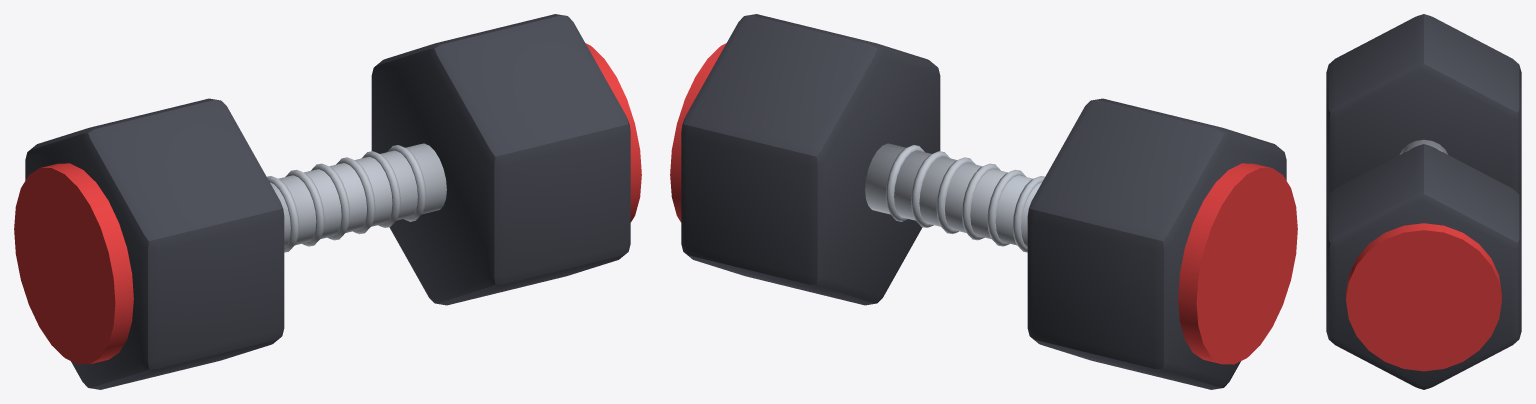
Rendered from Dumbbell.fbx.
3 views of the same model, side by side, from view 1: azimuth 30°, elevation 25°; view 2: azimuth 150°, elevation 25°; view 3: azimuth 270°, elevation 25° (orthographic). The views are drawn at different scales.
Visible parts, largest first — view 1: Dumbbell_Iron, Dumbbell_Body, Dumbbell_Steel; view 2: Dumbbell_Iron, Dumbbell_Body, Dumbbell_Steel; view 3: Dumbbell_Iron, Dumbbell_Body, Dumbbell_Steel.
Boxes of the visible parts, box(x1,y1,x2,y2) form: Dumbbell_Iron: box(25, 14, 630, 389); Dumbbell_Body: box(14, 43, 641, 364); Dumbbell_Steel: box(267, 143, 446, 252); Dumbbell_Iron: box(681, 14, 1286, 389); Dumbbell_Body: box(670, 43, 1297, 364); Dumbbell_Steel: box(865, 143, 1044, 252); Dumbbell_Iron: box(1326, 14, 1521, 389); Dumbbell_Body: box(1346, 223, 1501, 371); Dumbbell_Steel: box(1399, 139, 1448, 154).
Size of the model in its own units: 228 by 107 by 95.26.
